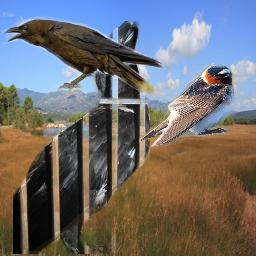Crow: (13, 21, 150, 254), (1, 15, 167, 95)
Swallow: (139, 64, 236, 150)
